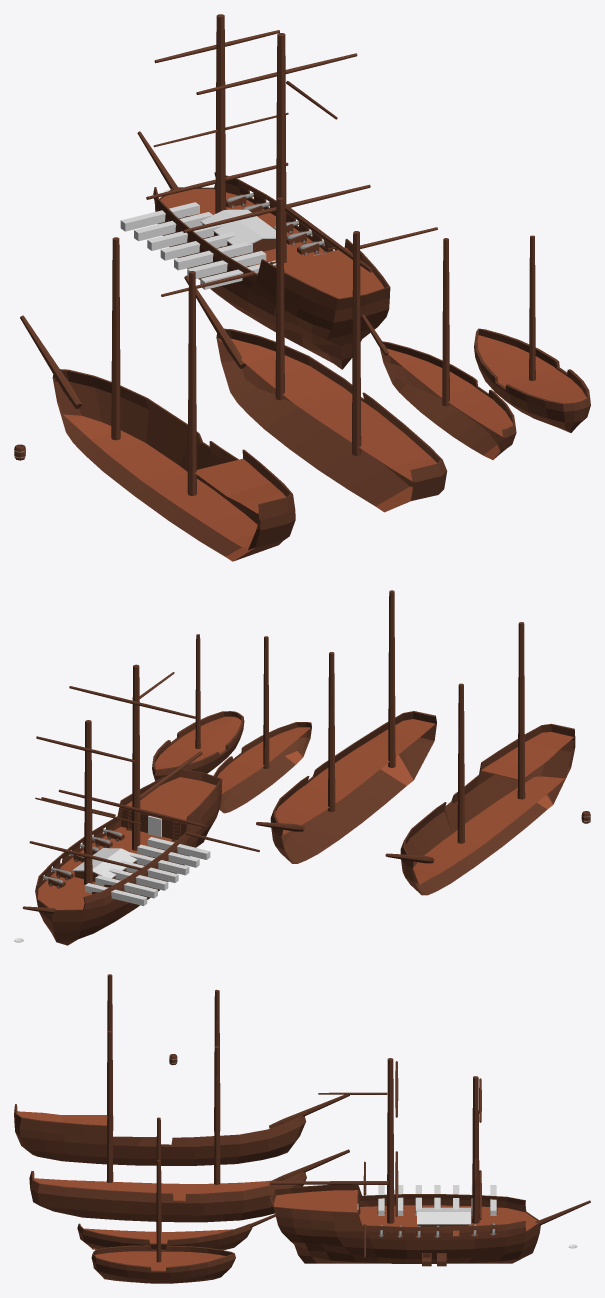
Rendered from Ship Test.fbx.
The picture shows the model from 3 angles, top to bottom: view 1: azimuth 30°, elevation 25°; view 2: azimuth 150°, elevation 25°; view 3: azimuth 270°, elevation 25°; orthographic projection. The views are drawn at different scales.
Visible parts, largest first — view 1: Hull2.002, Hull2.001, Hull, shipSmall, Hull2, Cannonports, Floor2, Mast2.004, Mast1, Mast2.001, Mast2, Floor1 (+7 smaller); view 2: Hull2.002, Hull2.001, Hull, Hull2, shipSmall, Cannonports, Floor1, Floor2, Mast2, Mast1, Mast2.004, Mast2.001 (+7 smaller); view 3: Hull, Hull2.002, Hull2.001, shipSmall, Hull2, Floor1, Floor2, Mast2, Cannonports, Mast1, MiddleHouse Roof, Mast2.001 (+5 smaller).
Boxes of the visible parts, left/top/right/bottom form: Hull2.002: left=52, top=369, right=295, bottom=561; Hull2.001: left=216, top=328, right=447, bottom=512; Hull: left=153, top=172, right=390, bottom=369; shipSmall: left=474, top=235, right=590, bottom=432; Hull2: left=380, top=341, right=516, bottom=459; Cannonports: left=120, top=202, right=276, bottom=289; Floor2: left=274, top=248, right=383, bottom=298; Mast2.004: left=187, top=271, right=196, bottom=495; Mast1: left=215, top=14, right=225, bottom=213; Mast2.001: left=352, top=231, right=361, bottom=455; Mast2: left=276, top=33, right=286, bottom=262; Floor1: left=160, top=189, right=324, bottom=265; Hull2.002: left=400, top=723, right=575, bottom=895; Hull2.001: left=270, top=711, right=436, bottom=863; Hull: left=35, top=769, right=222, bottom=945; Hull2: left=213, top=722, right=311, bottom=813; shipSmall: left=152, top=634, right=244, bottom=780; Cannonports: left=85, top=837, right=210, bottom=905; Floor1: left=38, top=826, right=176, bottom=909; Floor2: left=122, top=777, right=215, bottom=824; Mast2: left=132, top=664, right=140, bottom=850; Mast1: left=84, top=720, right=92, bottom=884; Mast2.004: left=517, top=622, right=525, bottom=799; Mast2.001: left=388, top=590, right=395, bottom=767; Hull: left=270, top=1184, right=540, bottom=1263; Hull2.002: left=14, top=1104, right=306, bottom=1165; Hull2.001: left=29, top=1171, right=306, bottom=1222; shipSmall: left=91, top=1160, right=235, bottom=1283; Hull2: left=77, top=1223, right=252, bottom=1250; Floor1: left=358, top=1205, right=537, bottom=1236; Floor2: left=274, top=1190, right=357, bottom=1212; Mast2: left=387, top=1058, right=394, bottom=1223; Cannonports: left=378, top=1185, right=496, bottom=1215; Mast1: left=472, top=1076, right=479, bottom=1223; MiddleHouse Roof: left=417, top=1207, right=470, bottom=1224; Mast2.001: left=106, top=1030, right=113, bottom=1182.
Bounding box in the file's own units: 4364 × 2171 × 5553.
